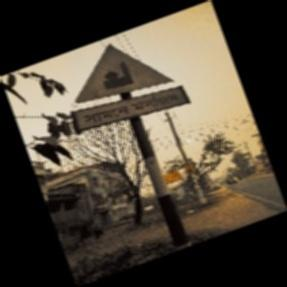Mosque in front: (72, 44, 189, 135)
